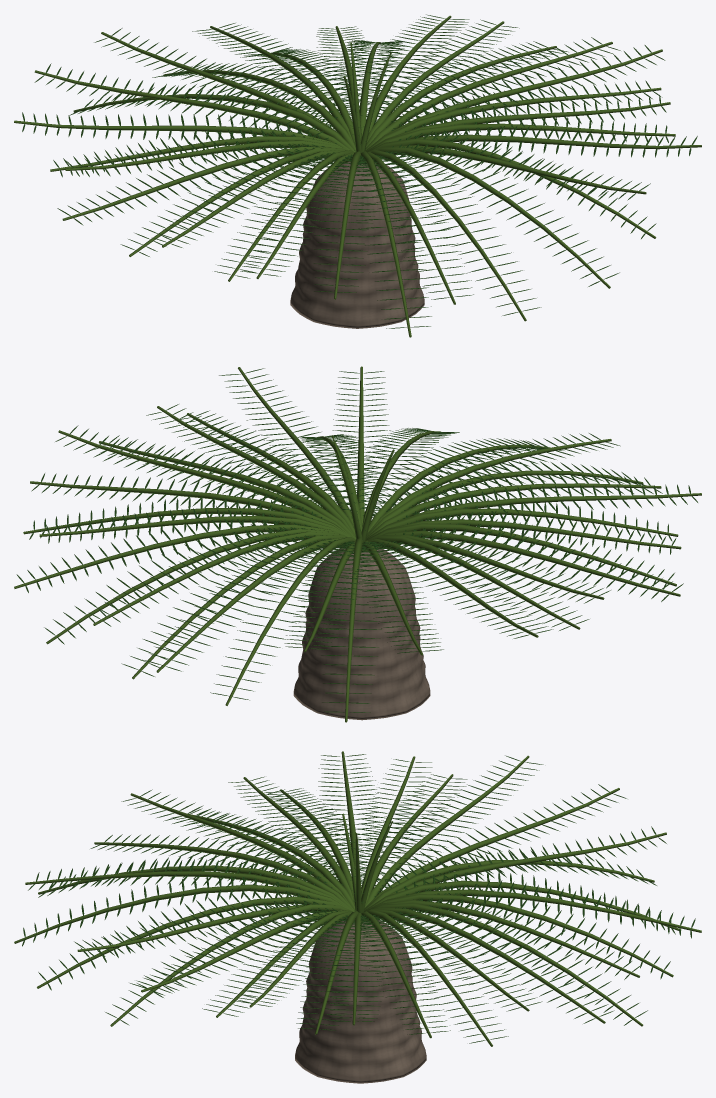
File: cycad.glb
3 views of the same model, one above another, from view 1: azimuth 30°, elevation 25°; view 2: azimuth 150°, elevation 25°; view 3: azimuth 270°, elevation 25° (orthographic). The views are drawn at different scales.
Parts seen in each view (by area): view 1: Stems, Foliage, Bark; view 2: Stems, Foliage, Bark; view 3: Stems, Foliage, Bark.
Boxes of the visible parts, bbox=[...] form: Stems: bbox=[14, 15, 701, 337]; Foliage: bbox=[22, 14, 697, 328]; Bark: bbox=[290, 162, 424, 328]; Stems: bbox=[14, 366, 701, 722]; Foliage: bbox=[16, 368, 697, 712]; Bark: bbox=[293, 547, 430, 720]; Stems: bbox=[14, 751, 701, 1046]; Foliage: bbox=[22, 754, 695, 1043]; Bark: bbox=[295, 920, 426, 1083].
Bounding box in the file's own units: 2.7 × 1.04 × 2.71.
Materials: 3 (2 with a texture image).
